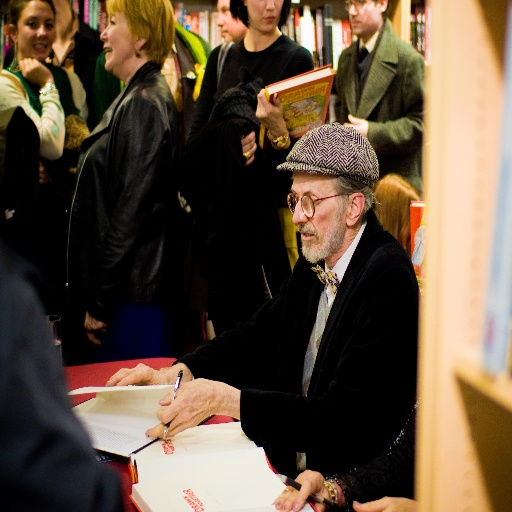hand: (154, 371, 244, 443), (269, 468, 331, 511), (252, 85, 287, 139), (104, 362, 167, 385), (350, 494, 415, 511), (83, 310, 109, 348), (16, 57, 52, 84), (239, 129, 259, 168), (343, 111, 368, 138)
